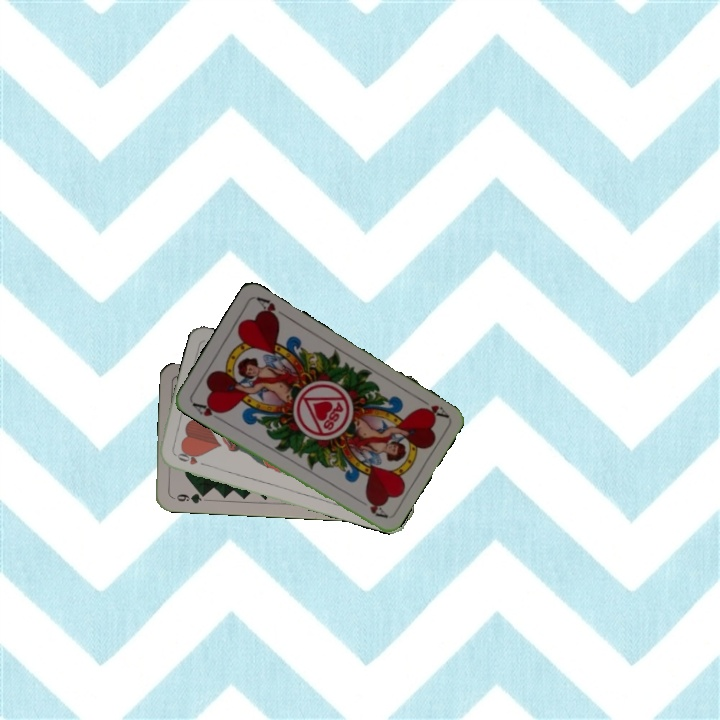G9: (168, 489, 209, 506)
HA: (413, 393, 450, 421), (188, 398, 226, 424)
HO: (170, 449, 210, 469)
